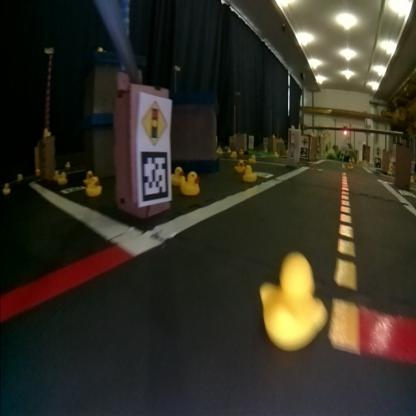Duckie: (261, 254, 327, 348), (182, 172, 200, 194), (86, 176, 102, 196), (172, 166, 184, 186), (245, 165, 256, 181), (58, 172, 69, 184), (236, 160, 246, 172), (249, 154, 256, 162), (232, 150, 238, 158)
QR code: (140, 149, 170, 202), (62, 186, 86, 194)
Signal sign: (142, 100, 168, 145)
Traffic light: (343, 126, 349, 134)
